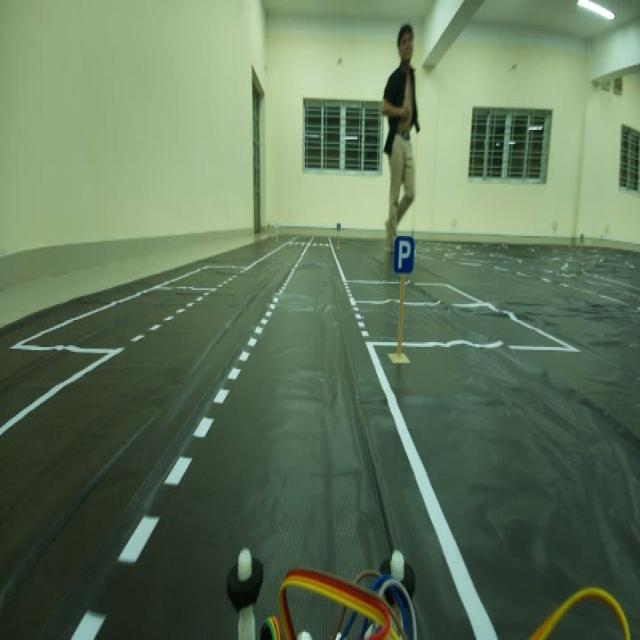parking: (390, 226, 419, 283)
